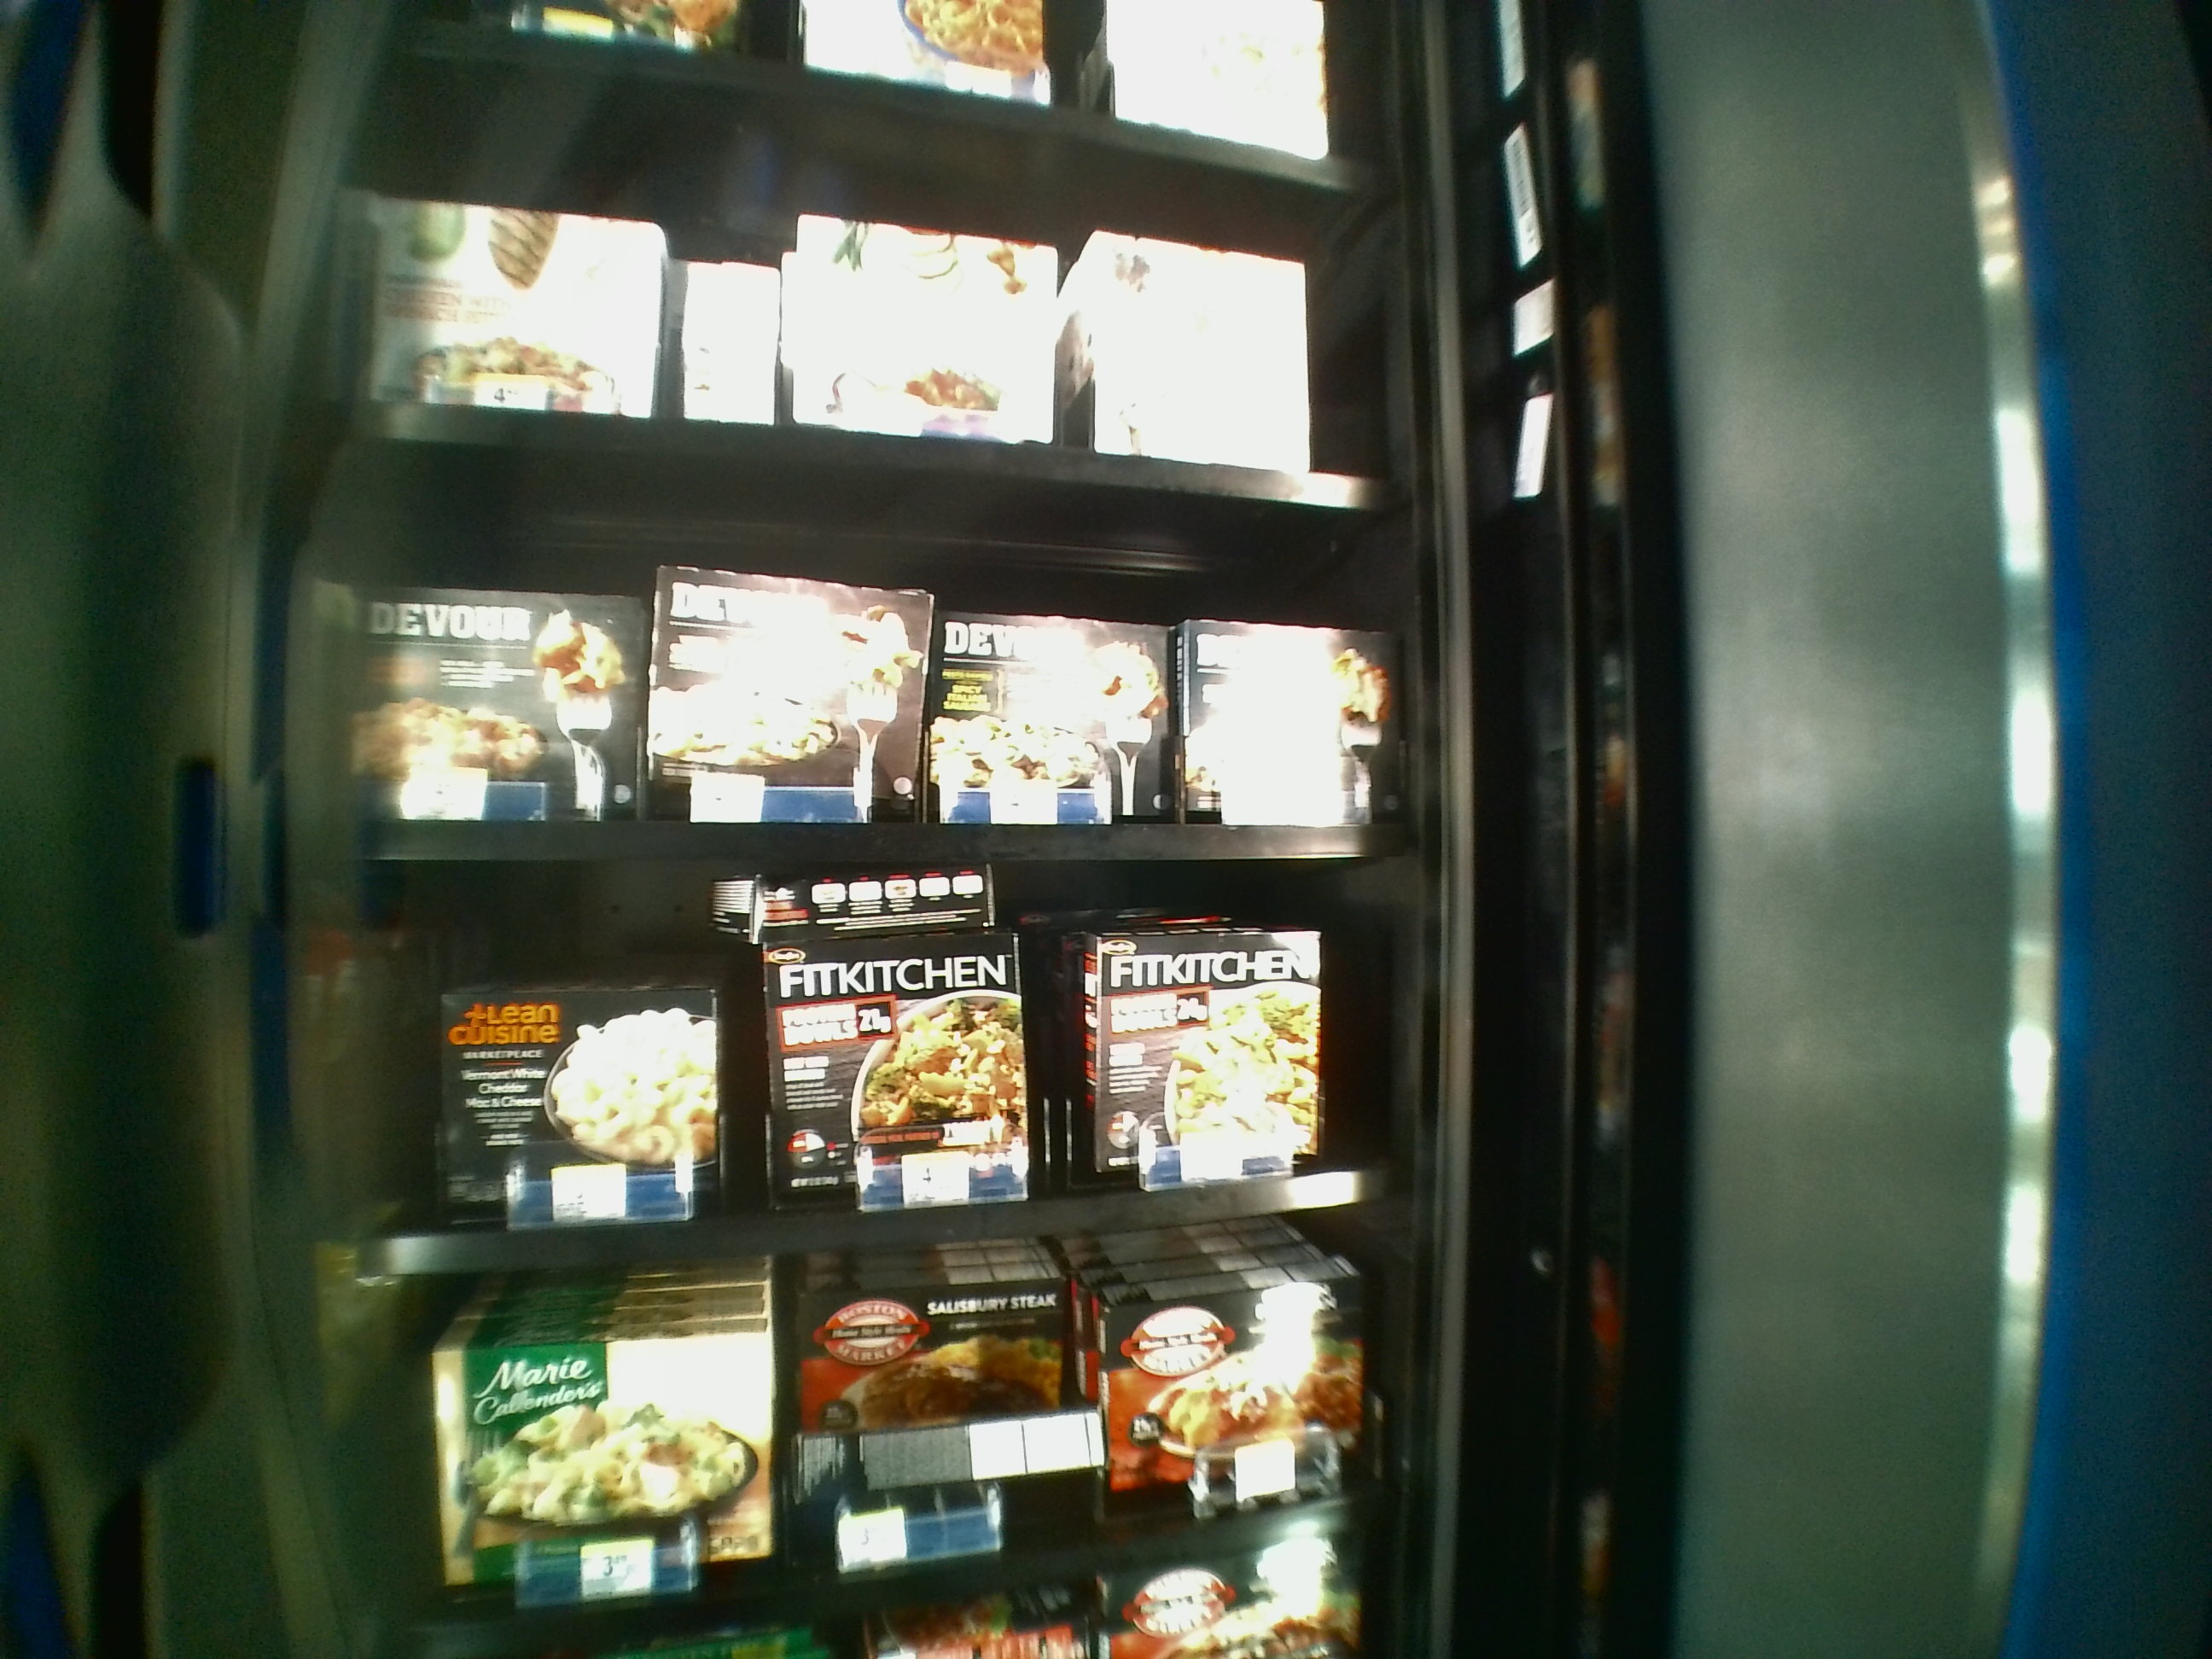shelf: (324, 441, 1406, 863), (329, 870, 1407, 1256)
